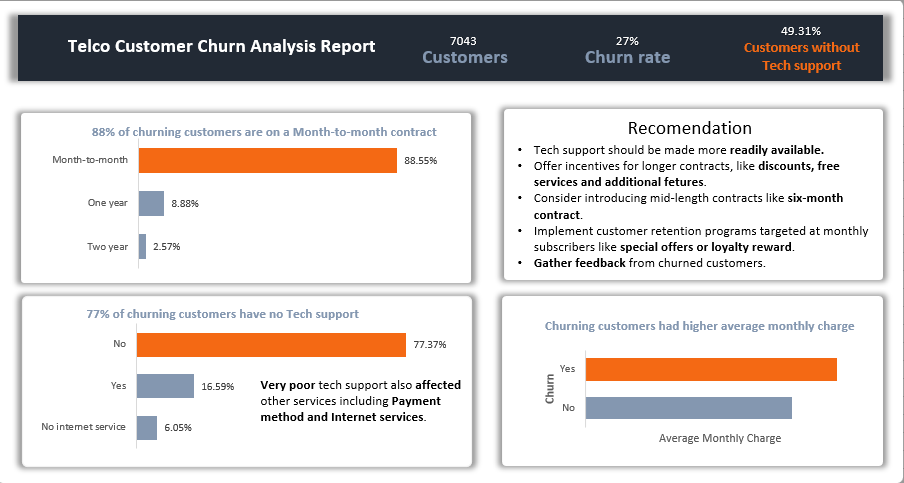

Layout of this report page (visuals, bound fields, positions):
{"tool":"powerbi","page":{"name":"Page 1","canvas":[1280,720],"ordinal":0},"visuals":[{"type":"shape","box":[18,23.3,611.4,90.7],"z":0,"group":"g5"},{"type":"textbox","box":[81.1,40.6,485.3,56.2],"z":1000,"group":"g5"},{"type":"shape","box":[675.4,23,272.1,115.9],"z":2000,"group":"g2"},{"type":"card","fields":{"Values":["MyMeasures.Total count of customers"]},"box":[758.6,37.6,105.8,58.8],"z":3000,"group":"g1"},{"type":"textbox","box":[735.9,76.7,151.2,47.5],"z":4000,"group":"g1"},{"type":"shape","box":[977.8,23,265.4,115.9],"z":5000,"group":"g4"},{"type":"card","fields":{"Values":["MyMeasures.Churn rate"]},"box":[1040.8,38,139.4,63.8],"z":6000,"group":"g3"},{"type":"textbox","box":[1034.2,77.8,152.6,46.1],"z":7000,"group":"g3"},{"type":"shape","box":[28.6,416.6,656.8,277.2],"z":8000},{"type":"barChart","fields":{"Category":["Telco-Customer-Churn.TechSupport"],"Y":["CountNonNull(Telco-Customer-Churn.customerID)"]},"box":[55.4,468.7,599.7,196.5],"z":9000},{"type":"shape","box":[28.6,139.4,656.8,253.6],"z":10000},{"type":"barChart","fields":{"Category":["Telco-Customer-Churn.Contract"],"Y":["CountNonNull(Telco-Customer-Churn.customerID)"]},"box":[70.6,184.3,568.8,198.7],"z":11000},{"type":"shape","box":[734.4,453.6,509.8,240.5],"z":12000},{"type":"barChart","fields":{"Category":["Telco-Customer-Churn.Churn"],"Y":["Avg(Telco-Customer-Churn.MonthlyCharges)"]},"box":[753.1,481,473.8,211.7],"z":13000},{"type":"shape","box":[734.4,161.3,509.8,270.7],"z":14000},{"type":"textbox","box":[167,149.8,334.1,70.6],"z":15000},{"type":"textbox","box":[182.9,432,301,70.6],"z":16000},{"type":"textbox","box":[792,453.6,373,73.4],"z":17000},{"type":"textbox","box":[878.4,161.3,208.8,40.3],"z":18000},{"type":"textbox","box":[744.5,185.8,482.4,246.2],"z":19000},{"type":"textbox","box":[384.5,542.9,301,61.9],"z":19001},{"type":"group","id":"g1","title":"Group 1","box":[735.9,37.6,151.2,86.6],"z":19002,"group":"g2"},{"type":"group","id":"g2","title":"Group 2","box":[675.4,23,272.2,115.2],"z":19003},{"type":"group","id":"g3","title":"Group 3","box":[1034.2,38,152.6,85.9],"z":19004,"group":"g4"},{"type":"group","id":"g4","title":"Group 4","box":[977.8,23,266.4,116.6],"z":19005},{"type":"group","id":"g5","title":"Group 5","box":[18,23.3,611.4,90.7],"z":19006}]}

Visuals, with their boxes on the page's 1280x720 design canvas (x1, y1, x2, y2). These are canvas units, not pixel positions in the 904x483 screenshot, which may show the page scaled, cropped or inside an application window:
shape: 18 23 629 114
textbox: 81 41 566 97
shape: 675 23 948 139
card - MyMeasures.Total count of customers: 759 38 864 96
textbox: 736 77 887 124
shape: 978 23 1243 139
card - MyMeasures.Churn rate: 1041 38 1180 102
textbox: 1034 78 1187 124
shape: 29 417 685 694
barChart - Telco-Customer-Churn.TechSupport x CountNonNull(Telco-Customer-Churn.customerID): 55 469 655 665
shape: 29 139 685 393
barChart - Telco-Customer-Churn.Contract x CountNonNull(Telco-Customer-Churn.customerID): 71 184 639 383
shape: 734 454 1244 694
barChart - Telco-Customer-Churn.Churn x Avg(Telco-Customer-Churn.MonthlyCharges): 753 481 1227 693
shape: 734 161 1244 432
textbox: 167 150 501 220
textbox: 183 432 484 503
textbox: 792 454 1165 527
textbox: 878 161 1087 202
textbox: 744 186 1227 432
textbox: 384 543 686 605
"Group 1" group: 736 38 887 124
"Group 2" group: 675 23 948 138
"Group 3" group: 1034 38 1187 124
"Group 4" group: 978 23 1244 140
"Group 5" group: 18 23 629 114
